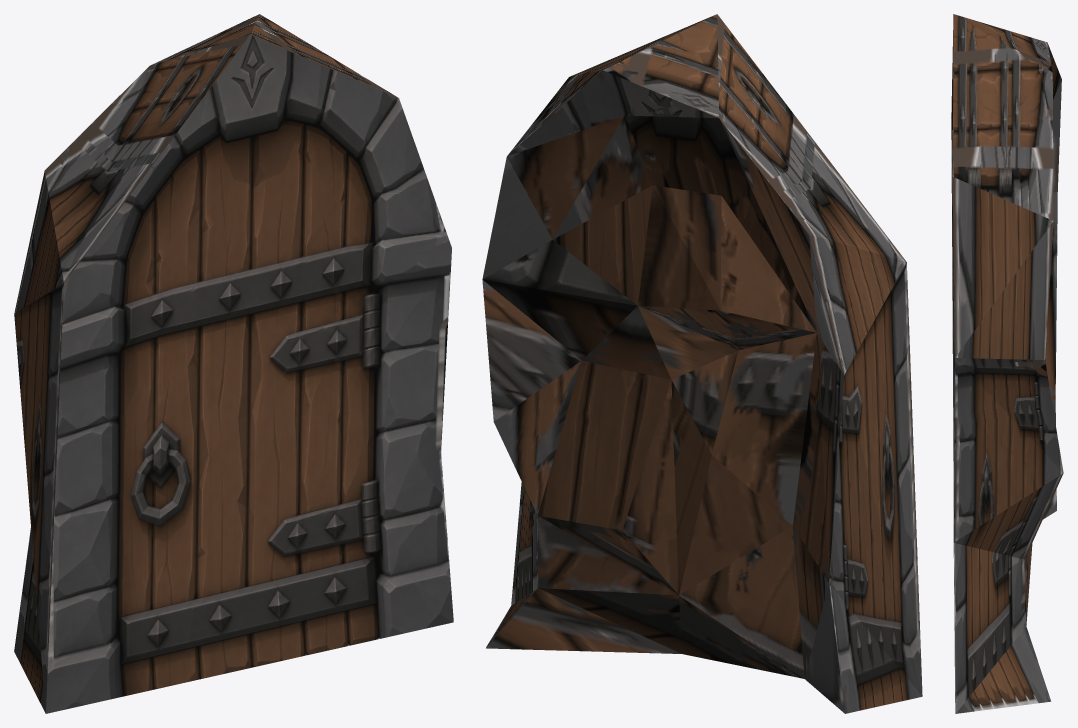
Rendered from SM_Dungeon_Door_A_LOD3.fbx.
3 renders of one model, left to right at view 1: azimuth 30°, elevation 25°; view 2: azimuth 150°, elevation 25°; view 3: azimuth 270°, elevation 25°, orthographic. The views are drawn at different scales.
Parts seen in each view (by area): view 1: SM_Dungeon_Door_A_LOD3; view 2: SM_Dungeon_Door_A_LOD3; view 3: SM_Dungeon_Door_A_LOD3.
Part boxes in pixels (x1=…): SM_Dungeon_Door_A_LOD3: x1=14, y1=14, x2=453, y2=713; SM_Dungeon_Door_A_LOD3: x1=482, y1=14, x2=922, y2=713; SM_Dungeon_Door_A_LOD3: x1=951, y1=14, x2=1063, y2=713.
Size of the model in its own units: 2.03 by 3.03 by 0.5094.
